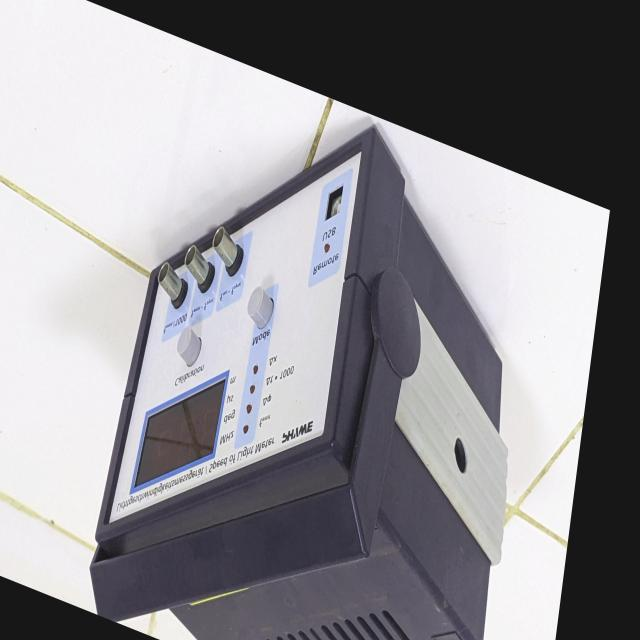Power Supply of Speed of Light Demo: (69, 29, 571, 640)
